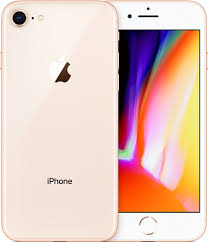iphone8: (1, 1, 120, 241), (117, 1, 207, 241)
